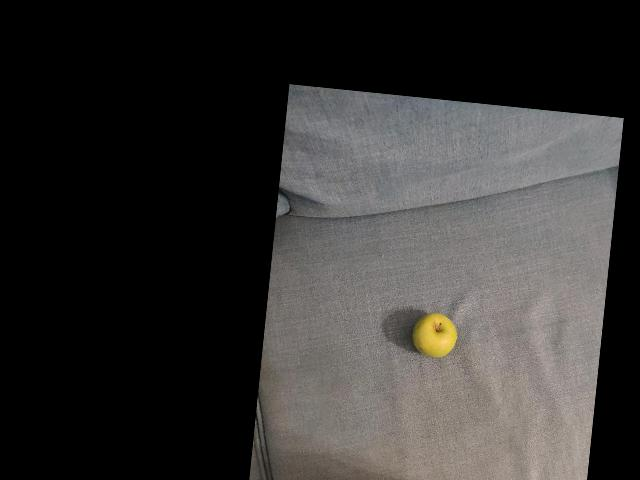apple: (408, 307, 467, 374)
